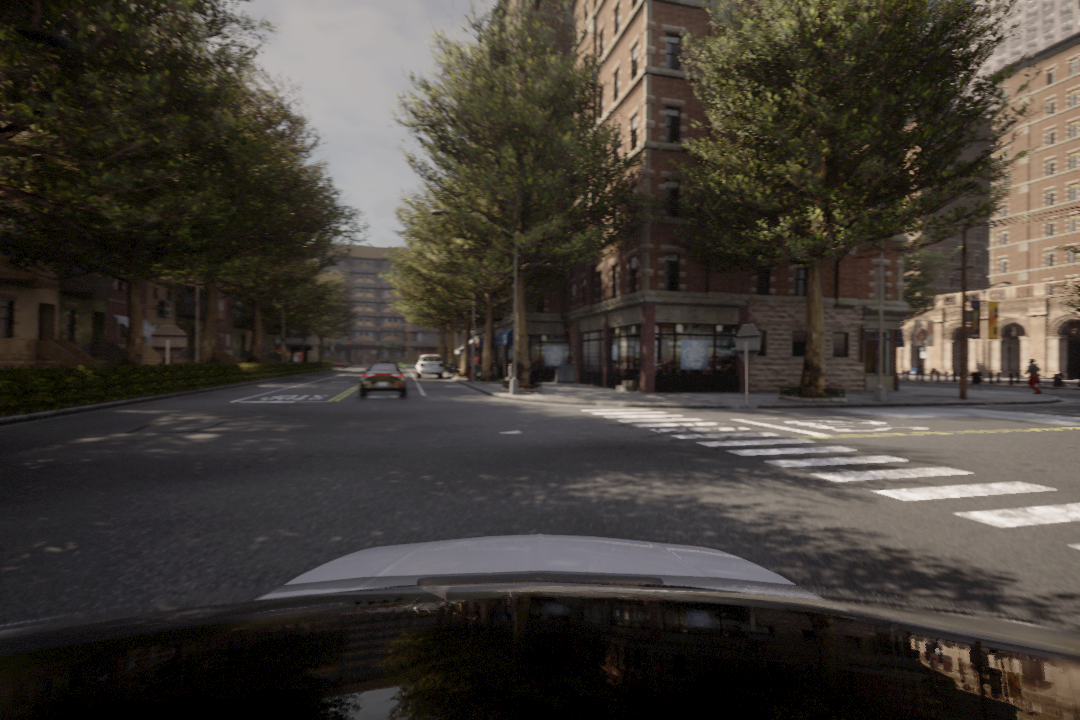walkside: (582, 411, 1080, 552)
